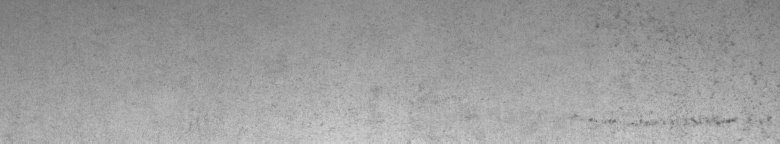ib: (568, 12, 772, 128)
